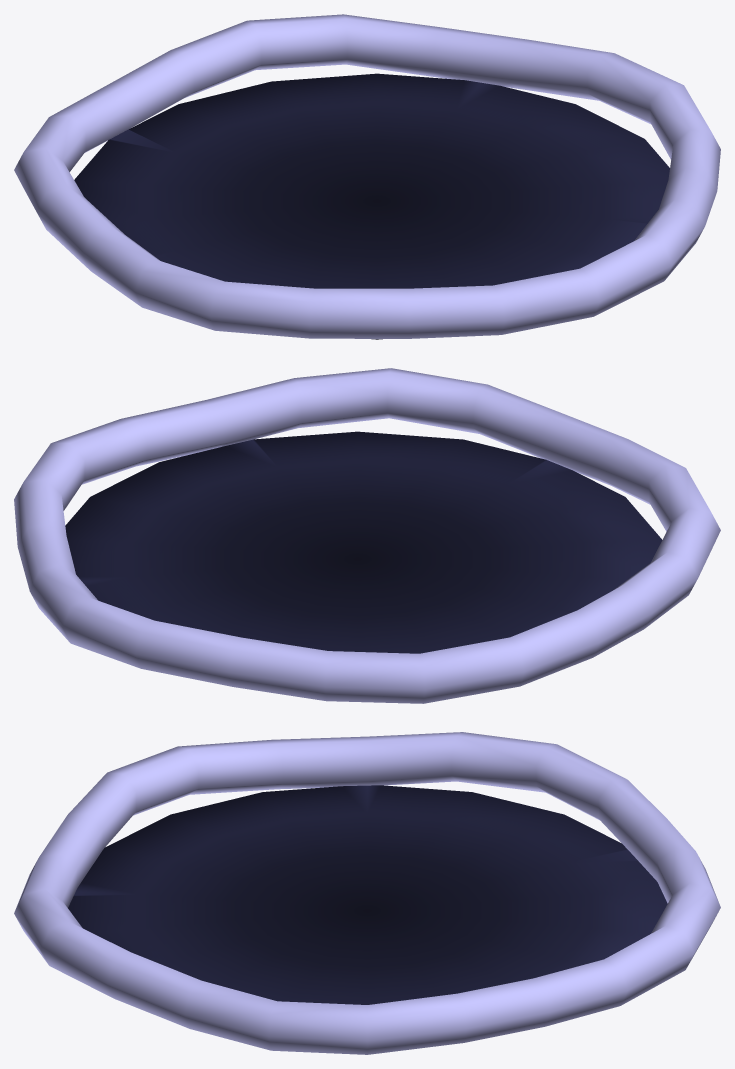
The model's file is Ghostly_Cave_Mouth.glb.
3 views of the same model, one above another, from view 1: azimuth 30°, elevation 25°; view 2: azimuth 150°, elevation 25°; view 3: azimuth 270°, elevation 25° (orthographic).
Parts seen in each view (by area): view 1: Ghostly_Cave_Mouth; view 2: Ghostly_Cave_Mouth; view 3: Ghostly_Cave_Mouth.
Part boxes in pixels (box(x1,y1,x2,y2)): Ghostly_Cave_Mouth: box(14, 14, 720, 339); Ghostly_Cave_Mouth: box(14, 368, 720, 703); Ghostly_Cave_Mouth: box(14, 732, 720, 1054).
Bounding box in the file's own units: 4.1 × 0.3559 × 4.15.
